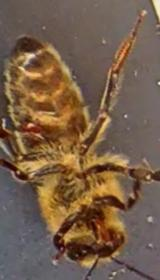varroa_mite: (13, 108, 46, 141)
